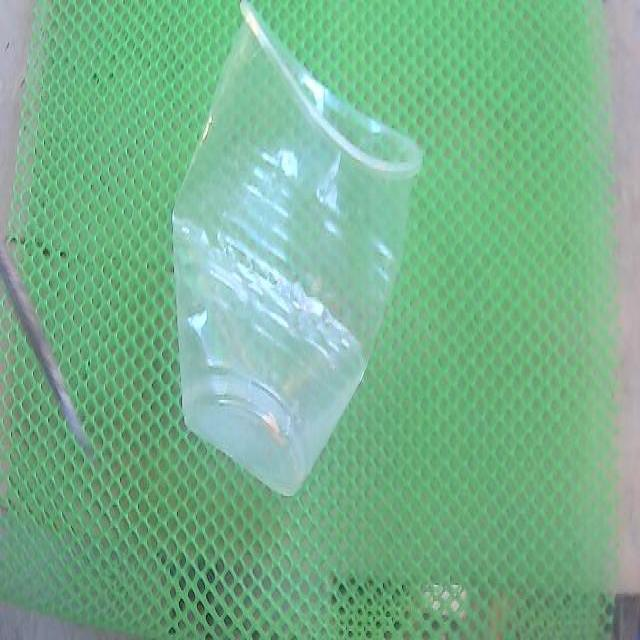bottle: (172, 2, 422, 494)
